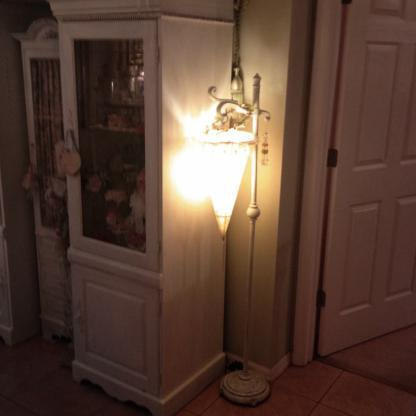door: (328, 0, 416, 368)
hinged: (329, 147, 339, 166), (320, 286, 329, 306), (342, 0, 353, 6)
